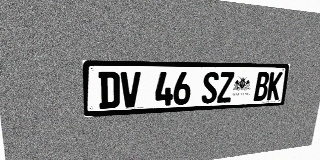4: (155, 72, 174, 106)
6: (173, 72, 192, 105)
B: (253, 72, 270, 101)
D: (98, 72, 120, 109)
K: (266, 72, 283, 100)
S: (201, 72, 219, 104)
V: (120, 72, 141, 108)
Z: (217, 72, 234, 103)
